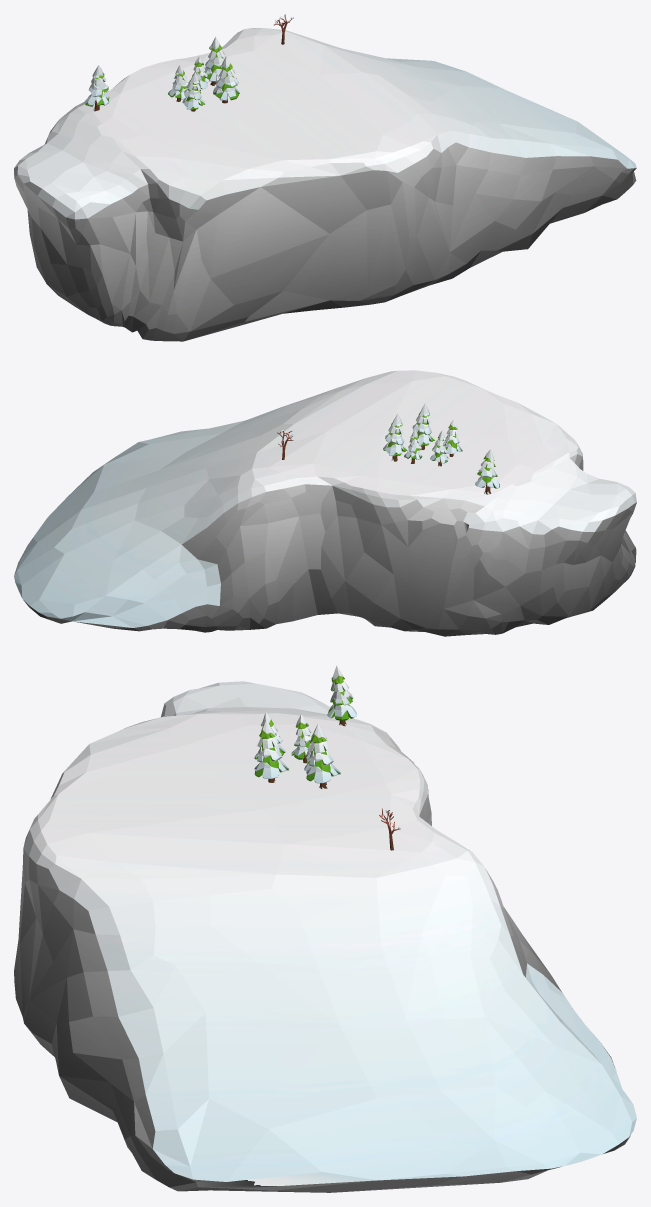
3 renders of one model, top to bottom at view 1: azimuth 30°, elevation 25°; view 2: azimuth 150°, elevation 25°; view 3: azimuth 270°, elevation 25°, orthographic. The views are drawn at different scales.
Parts seen in each view (by area): view 1: BigCliffWithPlants, SnowyTree (6), SnowyTree (8), SnowyTree (9), SnowyTree (7); view 2: BigCliffWithPlants, SnowyTree (9), SnowyTree (8), SnowyTree (6), SnowyTree (7), SnowyTree (10); view 3: BigCliffWithPlants, SnowyTree (9), SnowyTree (6), SnowyTree (8).
Part boxes in pixels (x1,y1,x2,y2): BigCliffWithPlants: (14, 28, 636, 341); SnowyTree (6): (213, 55, 239, 103); SnowyTree (8): (84, 65, 109, 111); SnowyTree (9): (204, 36, 224, 86); SnowyTree (7): (182, 72, 205, 111); BigCliffWithPlants: (14, 370, 636, 636); SnowyTree (9): (383, 413, 407, 461); SnowyTree (8): (475, 449, 499, 494); SnowyTree (6): (410, 403, 435, 449); SnowyTree (7): (444, 419, 462, 456); SnowyTree (10): (430, 430, 448, 466); BigCliffWithPlants: (14, 681, 636, 1192); SnowyTree (9): (306, 724, 340, 789); SnowyTree (6): (254, 719, 288, 782); SnowyTree (8): (327, 665, 357, 726).
Size of the model in its own units: 113 by 37.03 by 82.38.
1 material, 1 textured.
